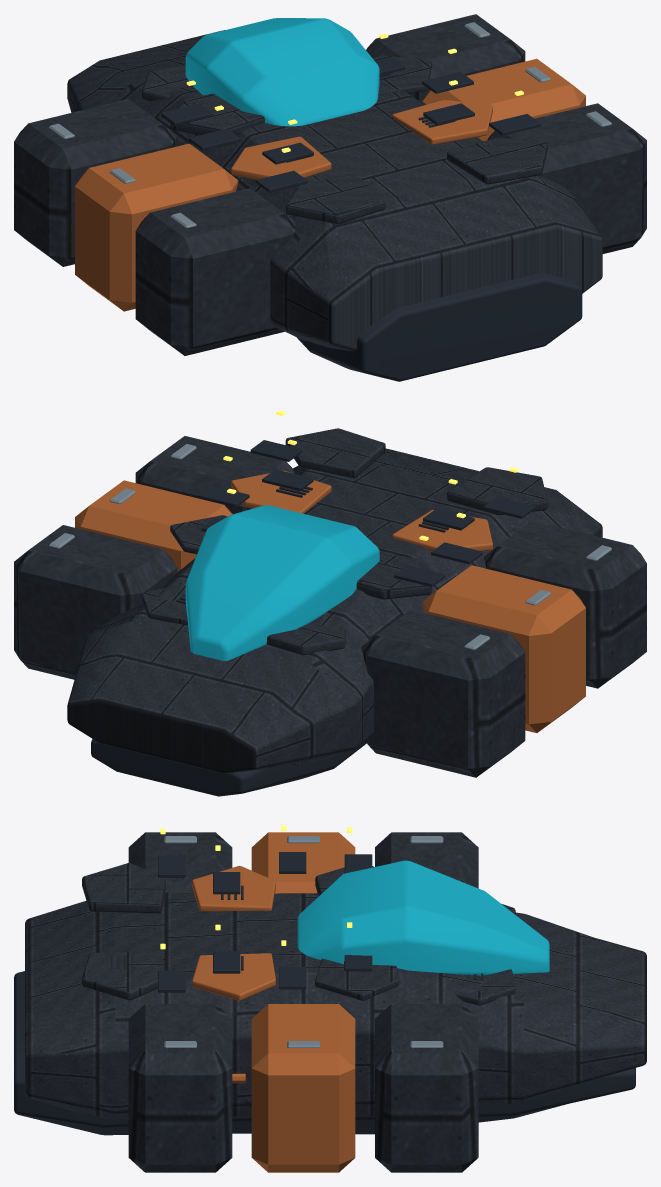
File: colossus.glb
3 views of the same model, one above another, from view 1: azimuth 30°, elevation 25°; view 2: azimuth 150°, elevation 25°; view 3: azimuth 270°, elevation 25° (orthographic).
Parts seen in each view (by area): view 1: Gôndola do motor.013 · exportação, Colar da turbina.040 · exportação, Bocal do motor.013 · exportação, Cabine panorâmica.006 · exportação, Aleta do bocal.111 · exportação; view 2: Gôndola do motor.013 · exportação, Colar da turbina.040 · exportação, Cabine panorâmica.006 · exportação, Bocal do motor.013 · exportação, Aleta do bocal.111 · exportação; view 3: Gôndola do motor.013 · exportação, Colar da turbina.040 · exportação, Cabine panorâmica.006 · exportação, Bocal do motor.013 · exportação, Aleta do bocal.111 · exportação.
Boxes of the visible parts, <box> form: Gôndola do motor.013 · exportação: <box>14,14,646,355</box>; Colar da turbina.040 · exportação: <box>75,58,585,311</box>; Bocal do motor.013 · exportação: <box>161,57,582,381</box>; Cabine panorâmica.006 · exportação: <box>185,18,379,126</box>; Aleta do bocal.111 · exportação: <box>49,22,611,228</box>; Gôndola do motor.013 · exportação: <box>14,428,646,777</box>; Colar da turbina.040 · exportação: <box>75,470,585,732</box>; Cabine panorâmica.006 · exportação: <box>185,505,379,660</box>; Bocal do motor.013 · exportação: <box>91,440,535,796</box>; Aleta do bocal.111 · exportação: <box>49,444,611,649</box>; Gôndola do motor.013 · exportação: <box>25,832,646,1172</box>; Colar da turbina.040 · exportação: <box>192,832,355,1172</box>; Cabine panorâmica.006 · exportação: <box>297,860,549,975</box>; Bocal do motor.013 · exportação: <box>14,852,635,1135</box>; Aleta do bocal.111 · exportação: <box>164,836,443,1047</box>.
Bounding box in the file's own units: 50.64 × 22.14 × 57.64.
7 materials, 1 textured.
